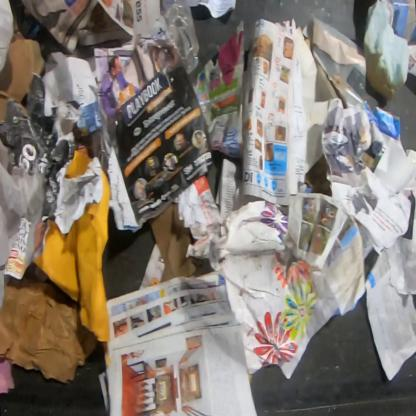cardboard: (207, 198, 318, 368), (32, 142, 113, 355), (147, 201, 213, 285), (362, 0, 412, 103), (0, 29, 47, 124)
rigid_plastic: (163, 1, 201, 78)
soft_plastic: (0, 159, 47, 270)
